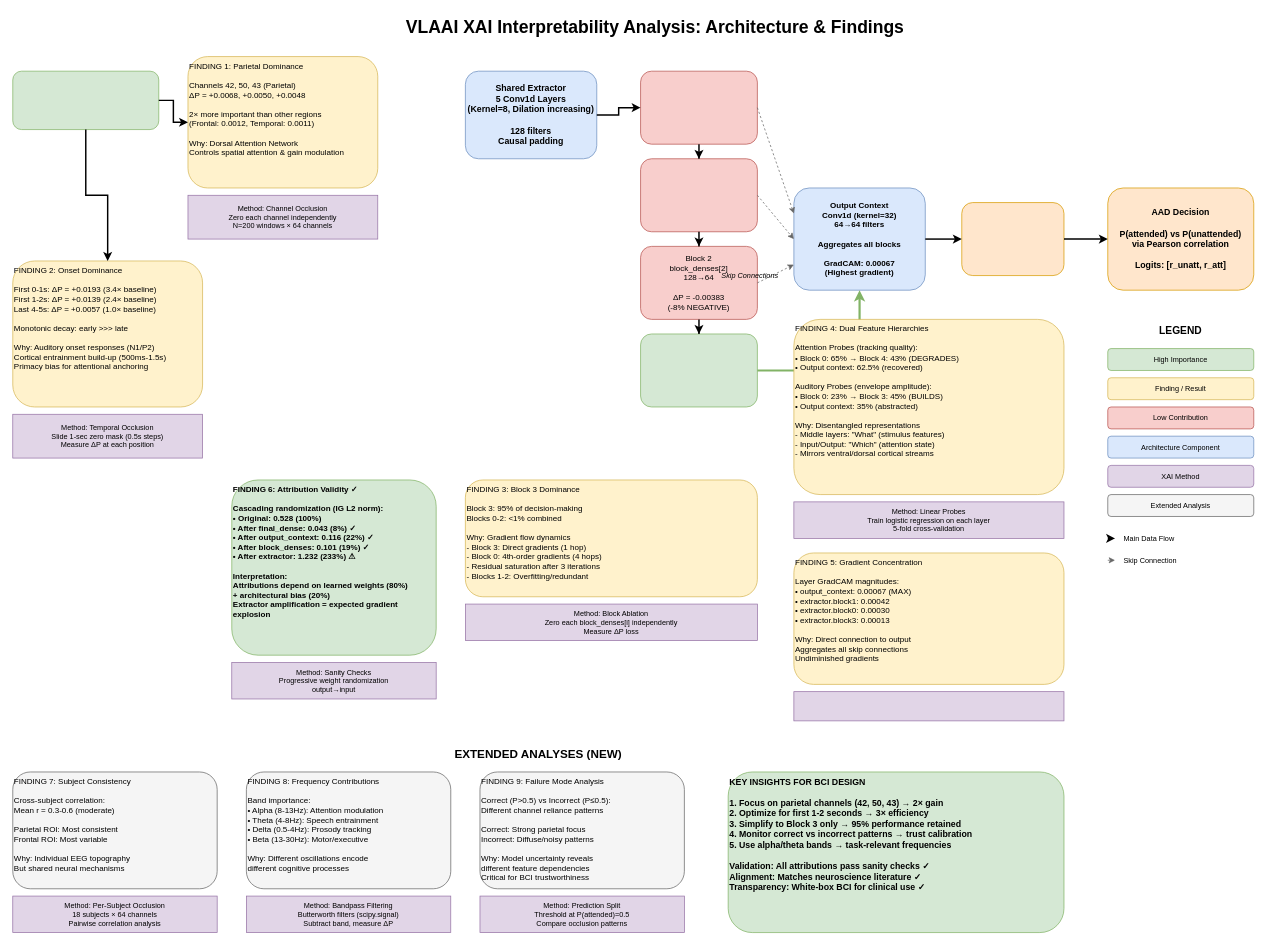
The diagram is 1267 pixels wide and 945 high, and some of its shapes have lost their labels. The centre of each missing label's shape, as x and y in pixels:
"Block 0 block_denses[0] 128→64 ΔP = +0.00004 (0.1% contribution)" belongs at point 698,107.
"Block 1 block_denses[1] 128→64 ΔP = -0.00020 (-0.4% NEGATIVE)" belongs at point 698,195.
"Block 3 ⭐ block_denses[3] 128→64 ΔP = +0.04781 (95% CRITICAL!)" belongs at point 698,370.
"EEG Input (B, T=320, C=64) 5 seconds @ 64Hz" belongs at point 85,100.
"Final Dense 64→1 Envelope Prediction" belongs at point 1012,239.
"Method: GradCAM (Captum) ∇y^c · A^l for each Conv1d layer" belongs at point 928,706.
